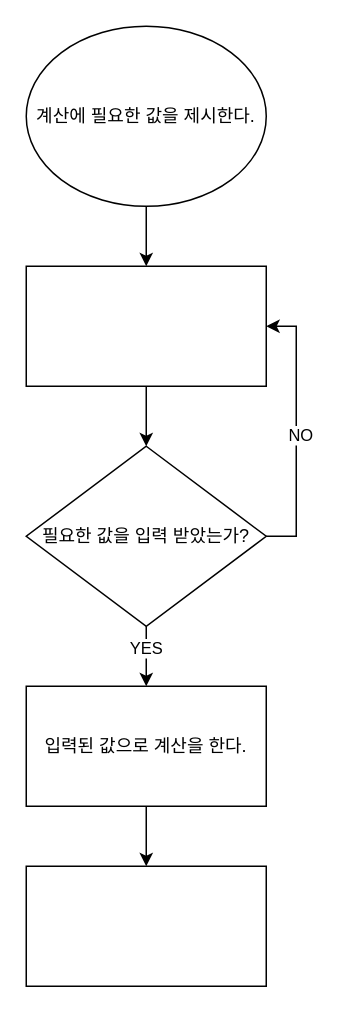
Image size: 339x1013. Some labels were removed from this diagram. Each missing label, with the centre of its shape:
"계산된 값을 보여준다." goes at (x=145, y=925).
"제시한 값을 입력한다." goes at (x=145, y=325).
